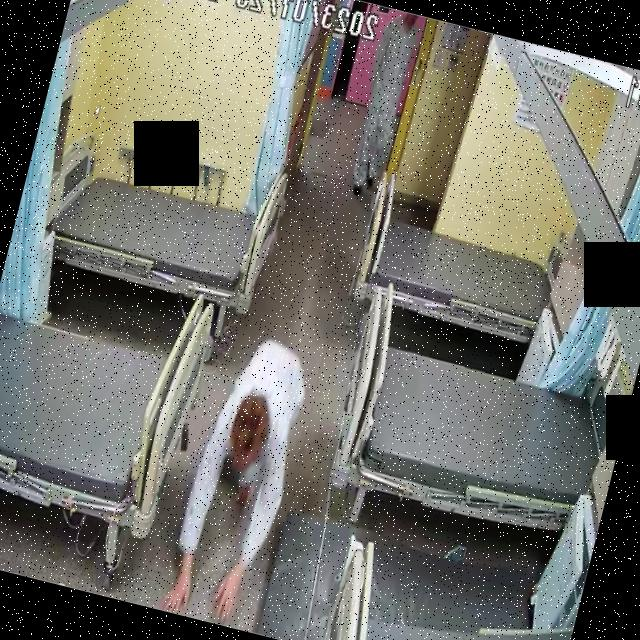bed: (0, 246, 222, 537), (325, 328, 617, 540), (30, 144, 286, 316), (352, 202, 560, 344)
fall: (162, 329, 318, 632)
patient: (162, 330, 319, 632), (343, 8, 423, 200)
